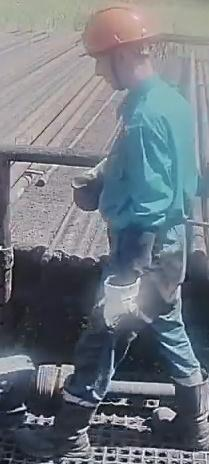gloves: (91, 268, 146, 340), (68, 150, 116, 213)
helmet: (78, 3, 157, 60)
vest: (107, 83, 194, 233)
